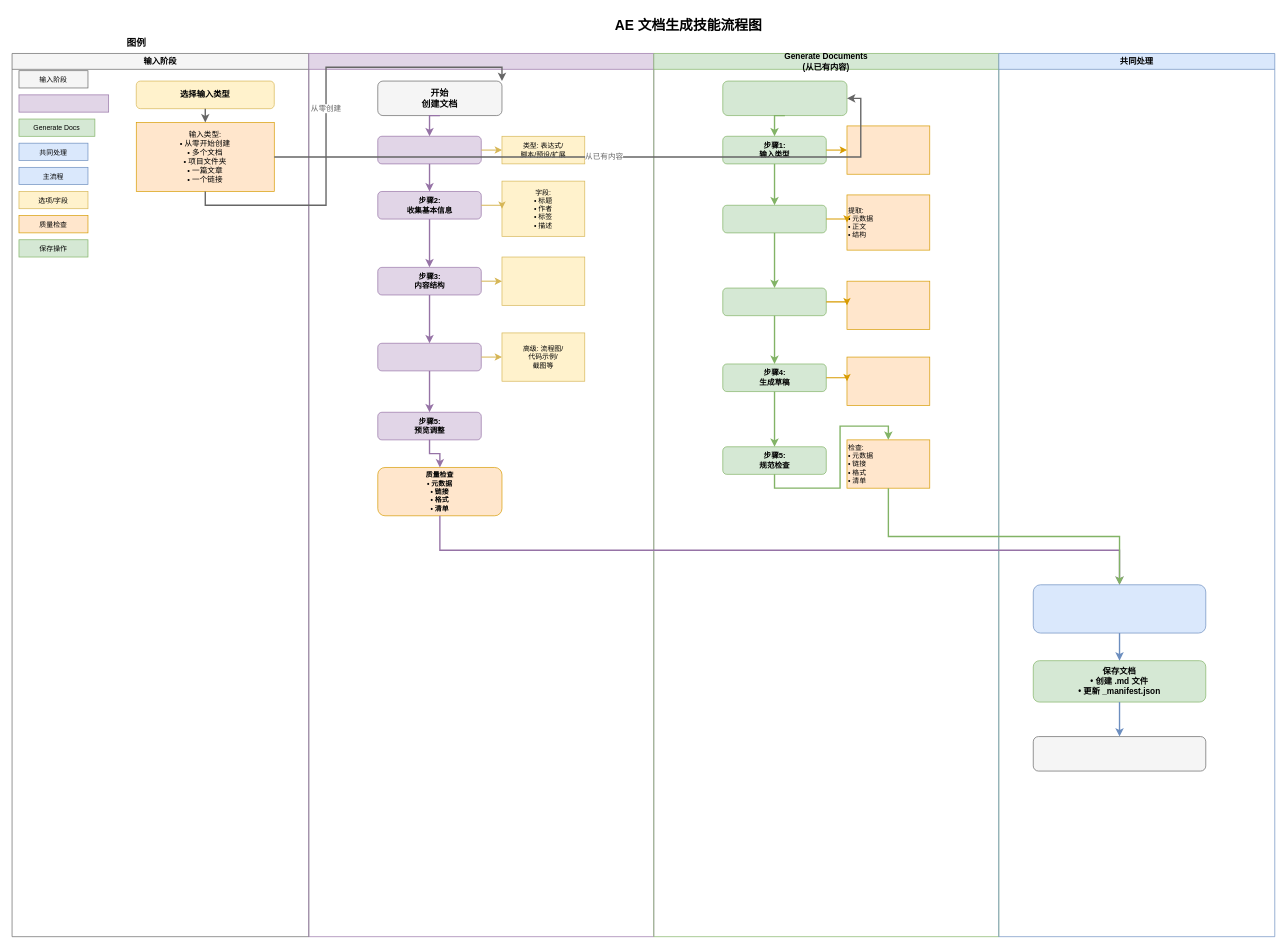
The diagram is 1287 pixels wide and 949 high, and some of its shapes have lost their labels. Each missing label, with the box of its shape:
Writing Documents: (18, 94, 109, 112)
Writing Documents (从零开始): (308, 53, 654, 937)
完成: (1033, 736, 1206, 771)
开始 生成文档: (722, 80, 847, 116)
整理: • 生成标题 • 提取标签 • 生成描述: (846, 280, 930, 329)
步骤1: 选择文档类型: (377, 136, 481, 164)
步骤2: 内容提取: (722, 205, 826, 233)
步骤3: 智能整理: (722, 287, 826, 316)
步骤4: 高级功能: (377, 343, 481, 371)
类型: • 多文档 • 项目文件夹 • 文章 • 链接: (846, 125, 930, 174)
草稿: • 自动生成 • 使用模板 • 添加元数据: (846, 356, 930, 405)
规范检查 • 元数据完整 • 链接有效 • 格式正确 • 清单更新: (1033, 584, 1206, 633)
部分: 下载/ 使用场景/ 功能特性等: (501, 256, 585, 305)
